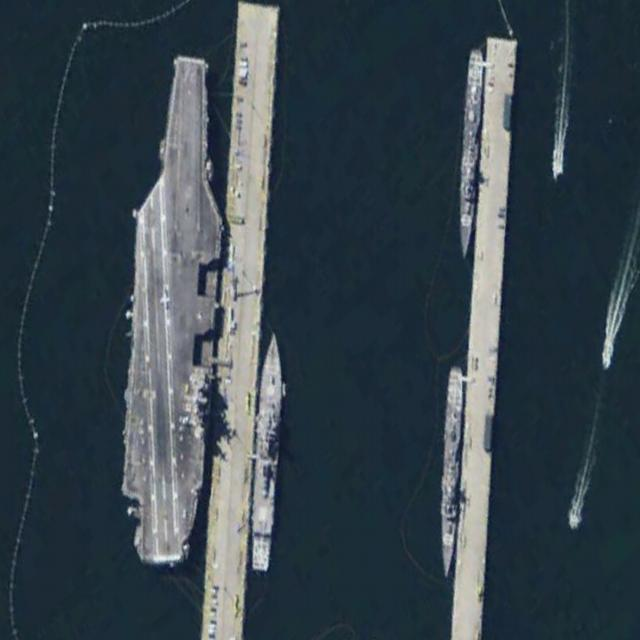Aircraft Carrier: (116, 51, 232, 570)
Destroyer: (248, 333, 286, 572)
Frigate: (456, 48, 487, 258), (438, 368, 465, 580)
